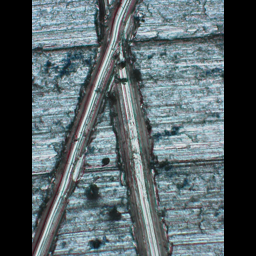d: (32, 0, 177, 254)
